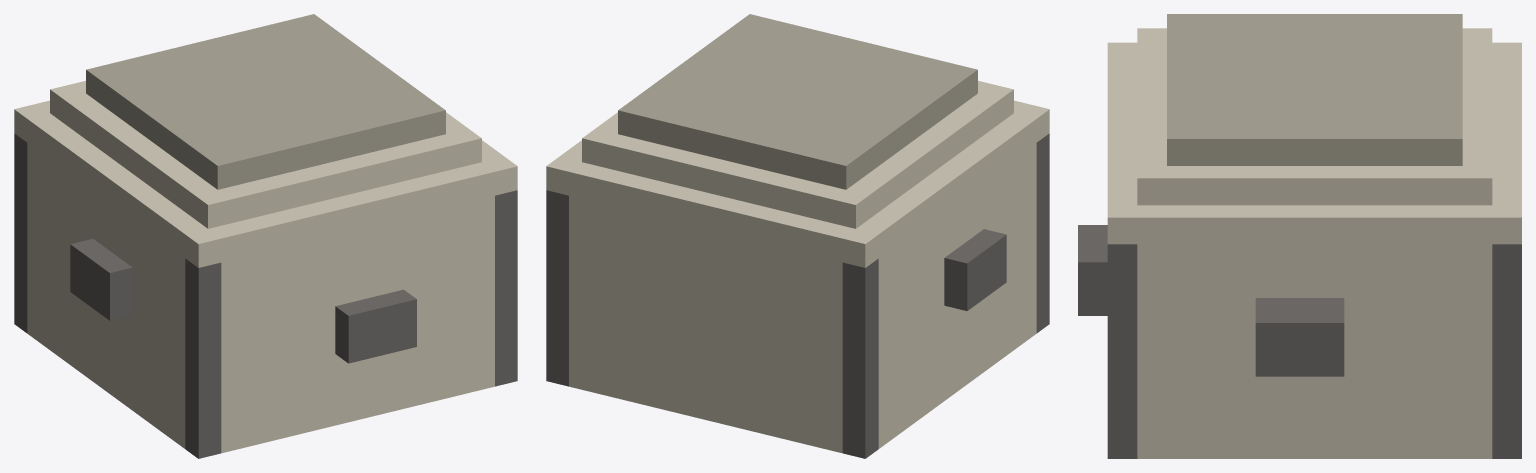
The model's file is baul_marinero_abedul_01.glb.
The picture shows the model from 3 angles, left to right: view 1: azimuth 30°, elevation 25°; view 2: azimuth 150°, elevation 25°; view 3: azimuth 270°, elevation 25°; orthographic projection. The views are drawn at different scales.
Visible parts, largest first — view 1: baul_marinero_abedul; view 2: baul_marinero_abedul; view 3: baul_marinero_abedul.
Boxes of the visible parts, <box> form: baul_marinero_abedul: <box>14,14,517,458</box>; baul_marinero_abedul: <box>546,14,1049,458</box>; baul_marinero_abedul: <box>1078,14,1521,458</box>.
Bounding box in the file's own units: 1.21 × 0.7857 × 1.07.
